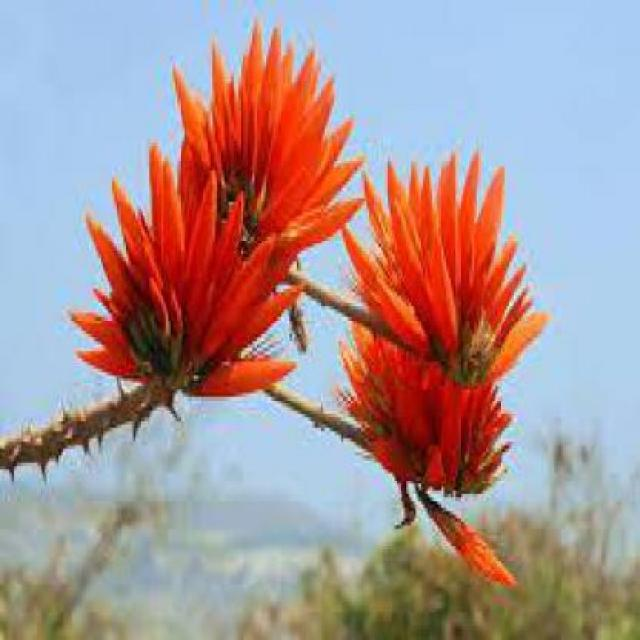flower: (73, 12, 347, 402), (345, 141, 533, 499)
